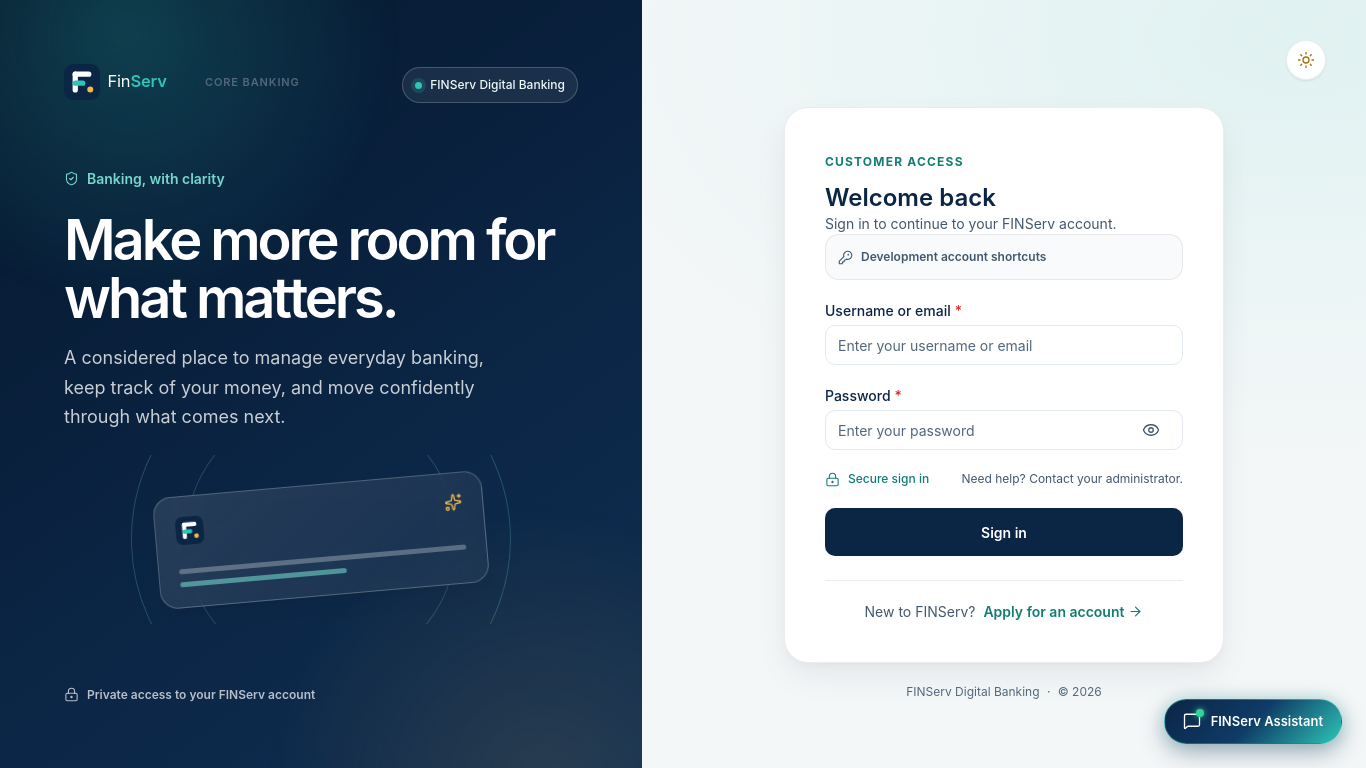
it: LoginPage confirmed transitions › shows inline validation before sending a request
The width and height of the screenshot is (1366, 768).
Click the button "Sign in". click: (1004, 532)
box: left=825, top=508, right=1183, bottom=556
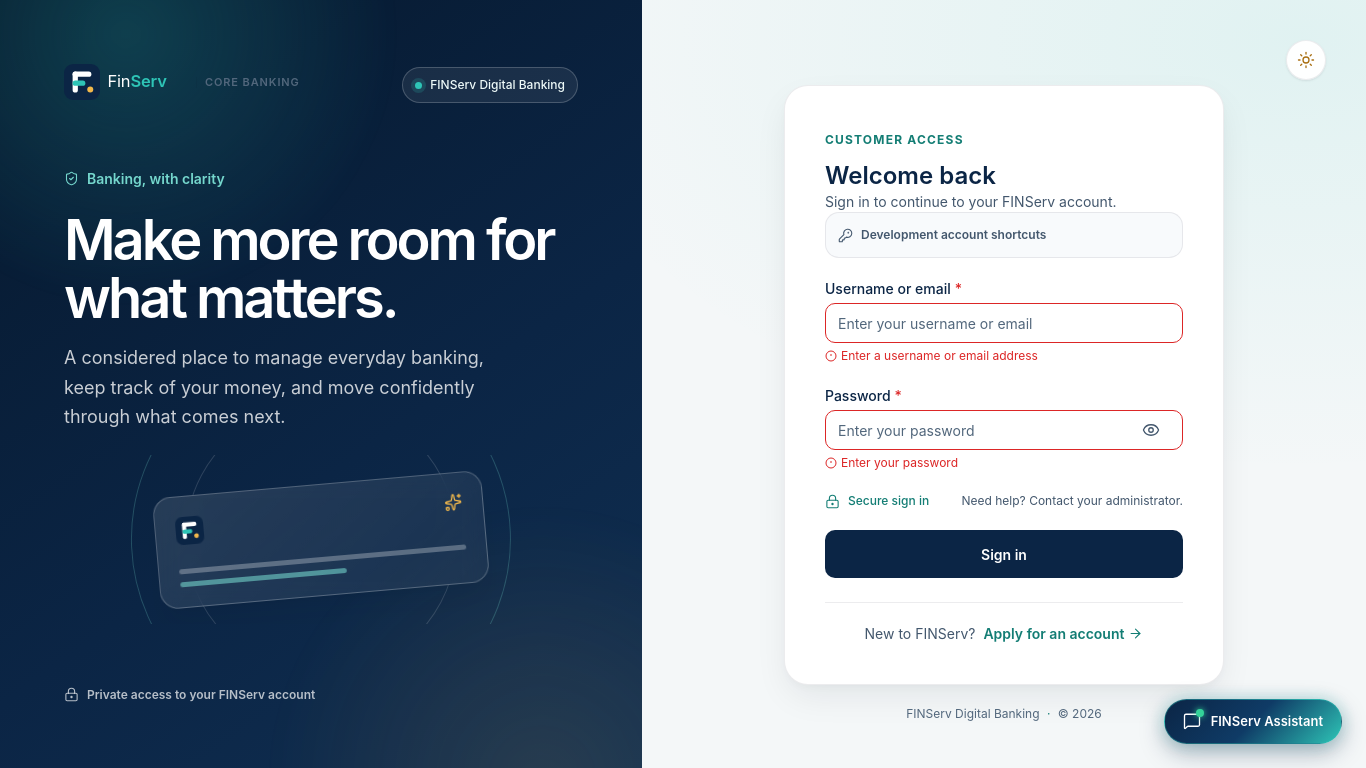
Expected: the text "Enter a username or email address" is shown, left=841, top=347, right=1038, bottom=365
Expected: the text "Enter your password" is shown, left=841, top=454, right=958, bottom=472
